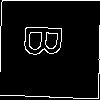B: (24, 24, 71, 58)
